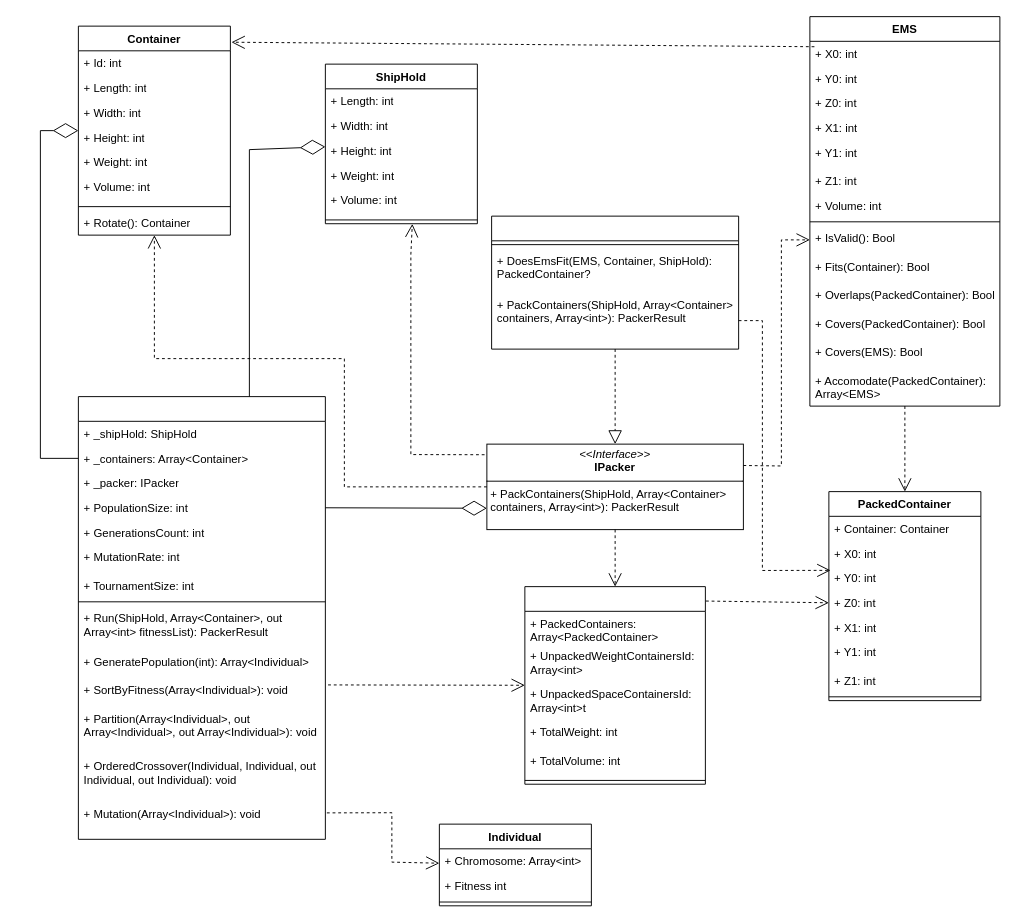
The diagram is 1017 pixels wide and 922 high, and some of its shapes have lost their labels. Each missing label, with the box of its shape:
GeneticAlgorithm: (77, 396, 325, 839)
PackerEMS: (491, 215, 739, 349)
PackerResult: (524, 586, 705, 784)
